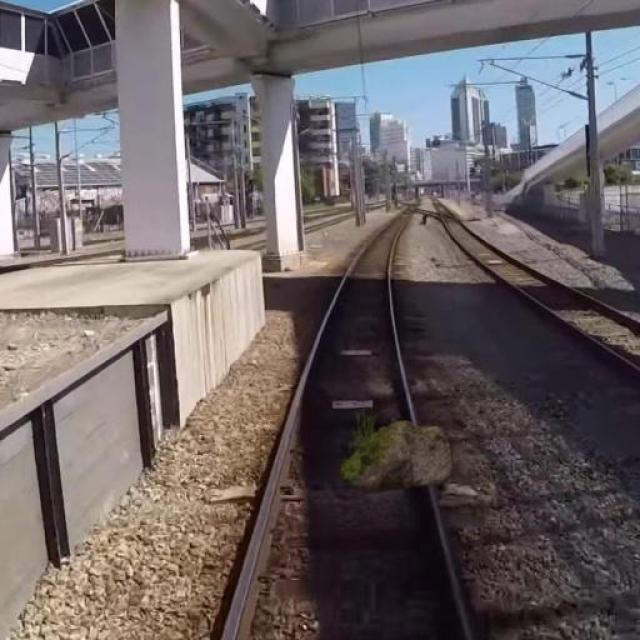Stone: (336, 413, 462, 494)
